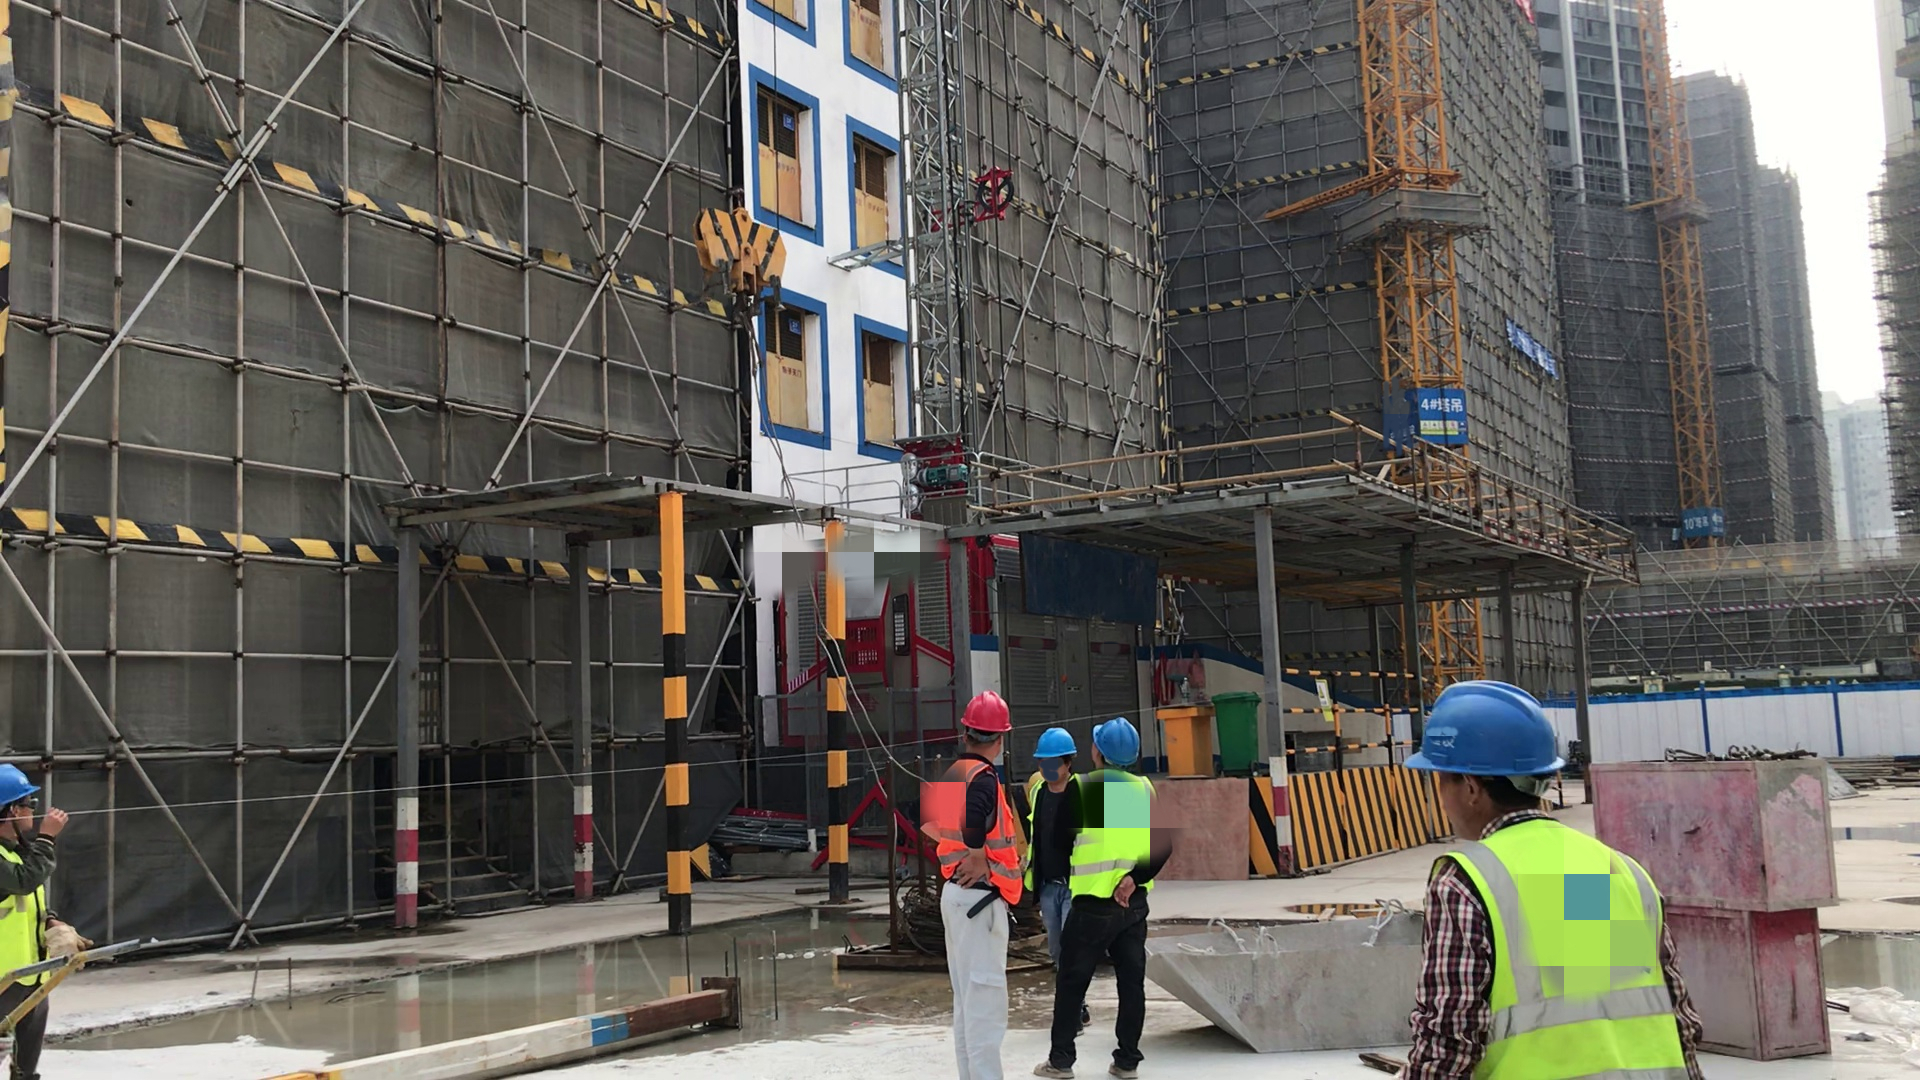board: (1138, 776, 1261, 880)
helmet: (1398, 679, 1566, 779), (958, 687, 1016, 738), (1088, 714, 1140, 767), (5, 761, 43, 811), (1029, 725, 1077, 763)
hook: (675, 194, 796, 327)
person: (1393, 677, 1715, 1080), (1032, 709, 1176, 1077), (918, 683, 1029, 1080), (4, 750, 65, 1080), (1027, 722, 1088, 973)
vest: (1424, 820, 1694, 1072), (931, 754, 1026, 900), (1067, 764, 1150, 921)
